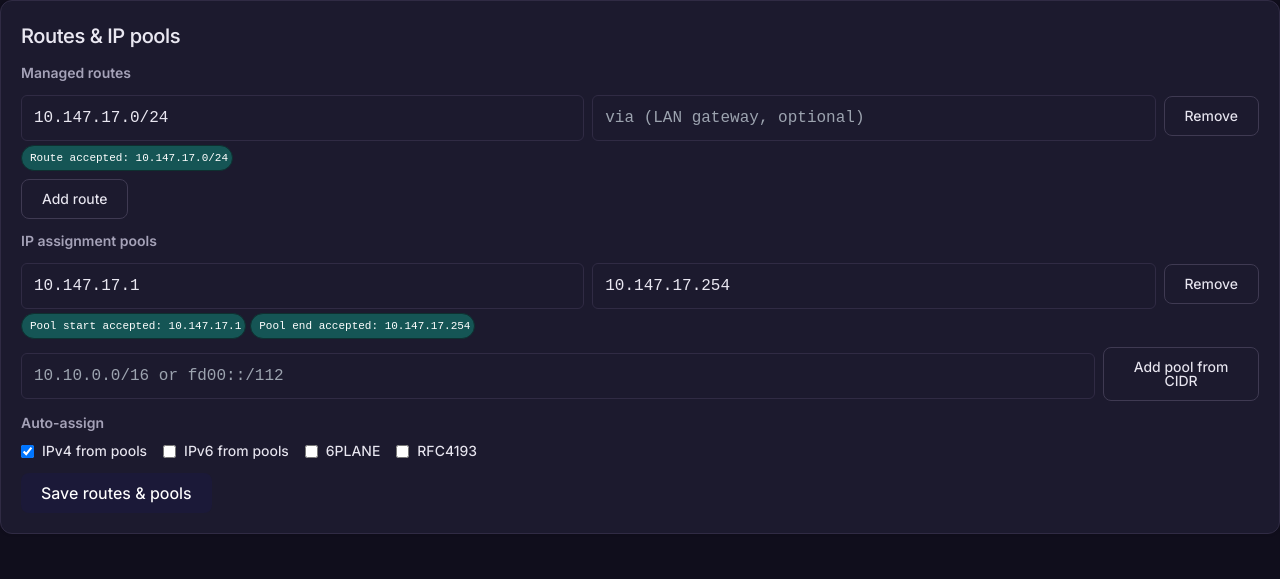
Scenario: RoutesEditor › rejects an invalid CIDR in the helper without PATCHing
The width and height of the screenshot is (1280, 579).
Expected: the field showing "10.147.17.0/24" is shown, [21,95,584,141]
Type "banana" into the field with placeholder "10.10.0.0/16 or fd00::/112" at (558, 376), box [21,353,1095,399]
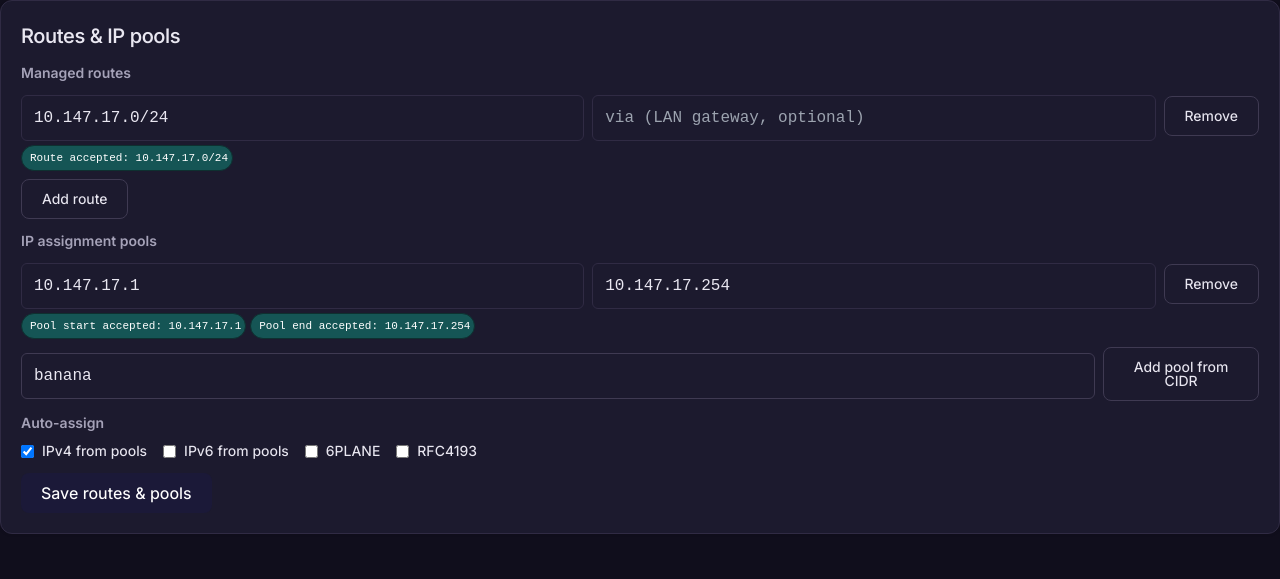
Click the button "Add pool from CIDR" at (1181, 374), box [1103,347,1259,401]
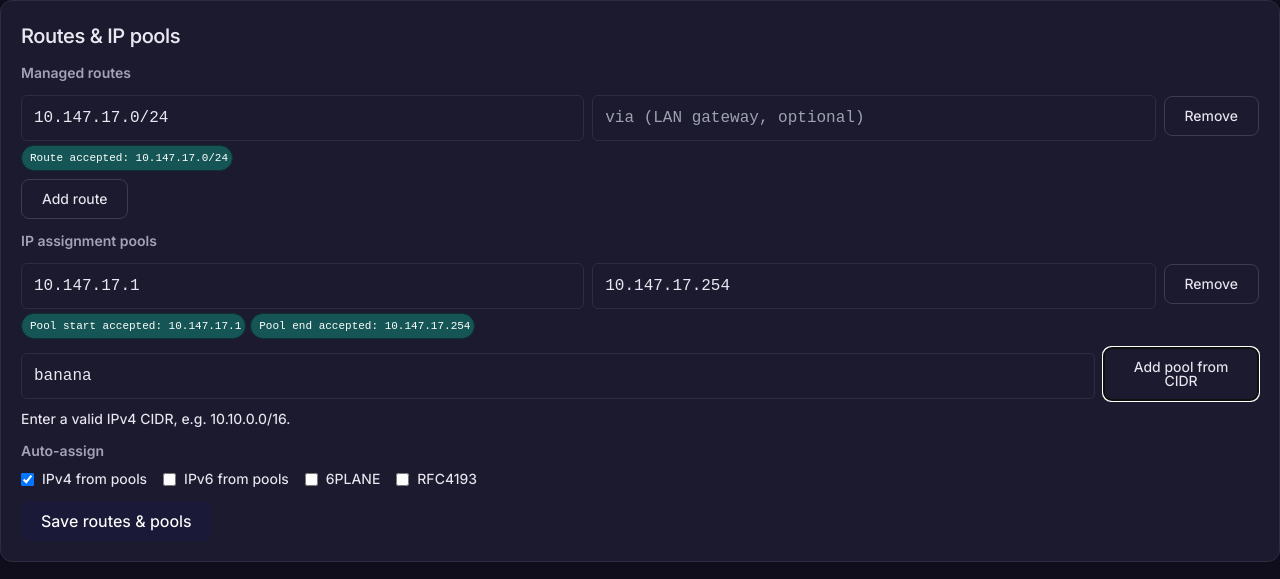
Result: the message shows "valid IPv4 CIDR" at [21,410,290,427]
